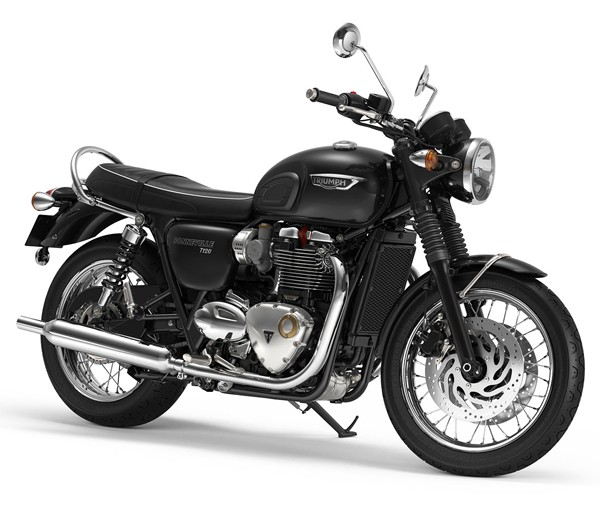motorcycle: (27, 91, 583, 475)
